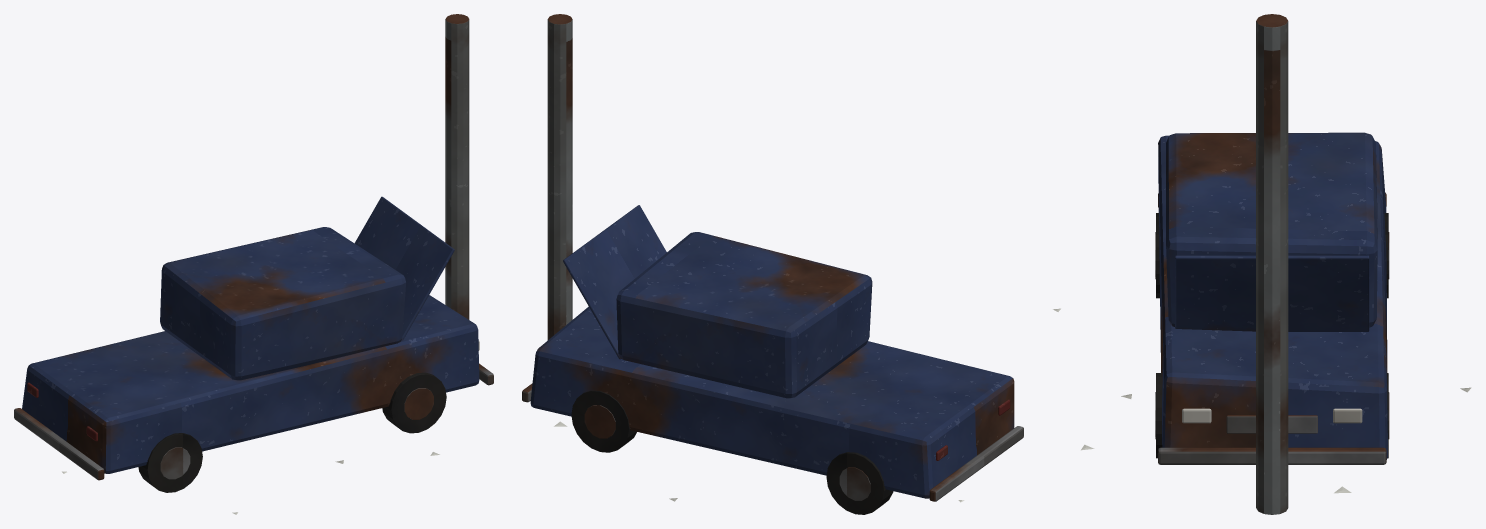
Rendered from JV01_crashed_car_front_v1.glb.
The picture shows the model from 3 angles, left to right: view 1: azimuth 30°, elevation 25°; view 2: azimuth 150°, elevation 25°; view 3: azimuth 270°, elevation 25°; orthographic projection. The views are drawn at different scales.
Parts seen in each view (by area): view 1: JV01_crashed_car_front_v1; view 2: JV01_crashed_car_front_v1; view 3: JV01_crashed_car_front_v1.
Boxes of the visible parts, <box> form: JV01_crashed_car_front_v1: <box>14,14,493,514</box>; JV01_crashed_car_front_v1: <box>522,14,1023,514</box>; JV01_crashed_car_front_v1: <box>1053,14,1471,514</box>.
Size of the model in its own units: 4.4 by 3.7 by 2.88.
7 materials, 7 textured.
